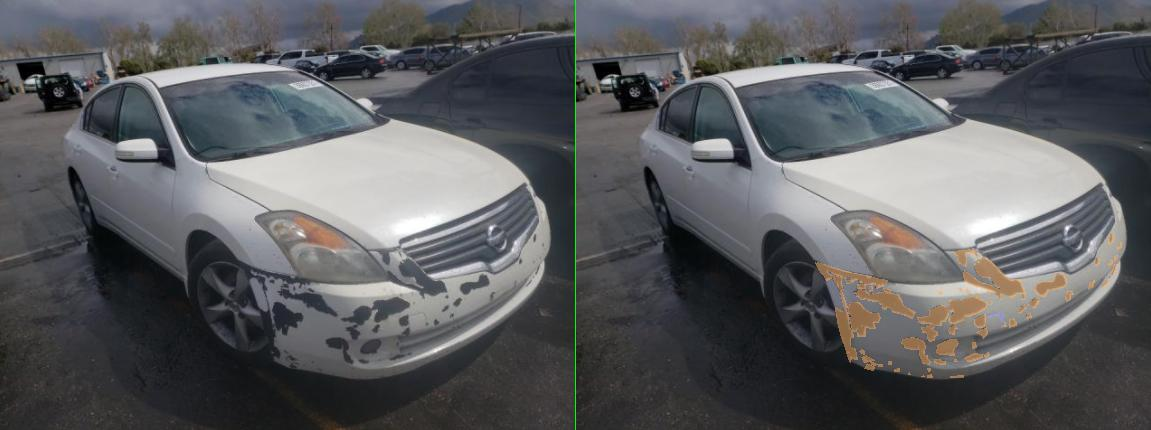Paint chip: (775, 257, 899, 299), (482, 262, 623, 288), (556, 289, 679, 318), (518, 307, 562, 362), (544, 302, 609, 336), (743, 296, 823, 323), (651, 337, 709, 364), (919, 273, 983, 296), (683, 305, 745, 325), (721, 339, 765, 355), (753, 249, 793, 266), (478, 262, 514, 280), (691, 324, 723, 341), (512, 275, 534, 291), (777, 353, 813, 361), (797, 314, 819, 327), (801, 327, 823, 338), (905, 297, 927, 308), (528, 291, 542, 308), (570, 355, 597, 362), (745, 324, 763, 334), (883, 304, 901, 313), (979, 291, 995, 301), (577, 363, 597, 370), (791, 248, 805, 258), (867, 318, 881, 327), (1053, 279, 1067, 288), (1065, 233, 1077, 243), (1071, 264, 1083, 274), (717, 359, 739, 364), (1025, 280, 1037, 289), (615, 288, 629, 293), (562, 284, 579, 288), (815, 352, 827, 357), (589, 361, 603, 365), (1039, 258, 1047, 265), (1083, 242, 1091, 249), (566, 349, 577, 354), (749, 375, 775, 377), (901, 313, 911, 318), (793, 342, 801, 348), (891, 294, 899, 299), (1065, 260, 1073, 265), (538, 280, 550, 283), (853, 322, 861, 326), (779, 289, 787, 293), (587, 286, 593, 291), (1077, 255, 1083, 260), (637, 368, 647, 371), (703, 374, 713, 377), (799, 293, 805, 297), (725, 291, 733, 294), (703, 368, 709, 371), (625, 361, 631, 364), (765, 288, 773, 290), (605, 364, 613, 366), (827, 301, 831, 304), (757, 359, 763, 361), (823, 292, 827, 294), (665, 372, 669, 374), (691, 375, 697, 376)
Scratch: (823, 312, 855, 327)
